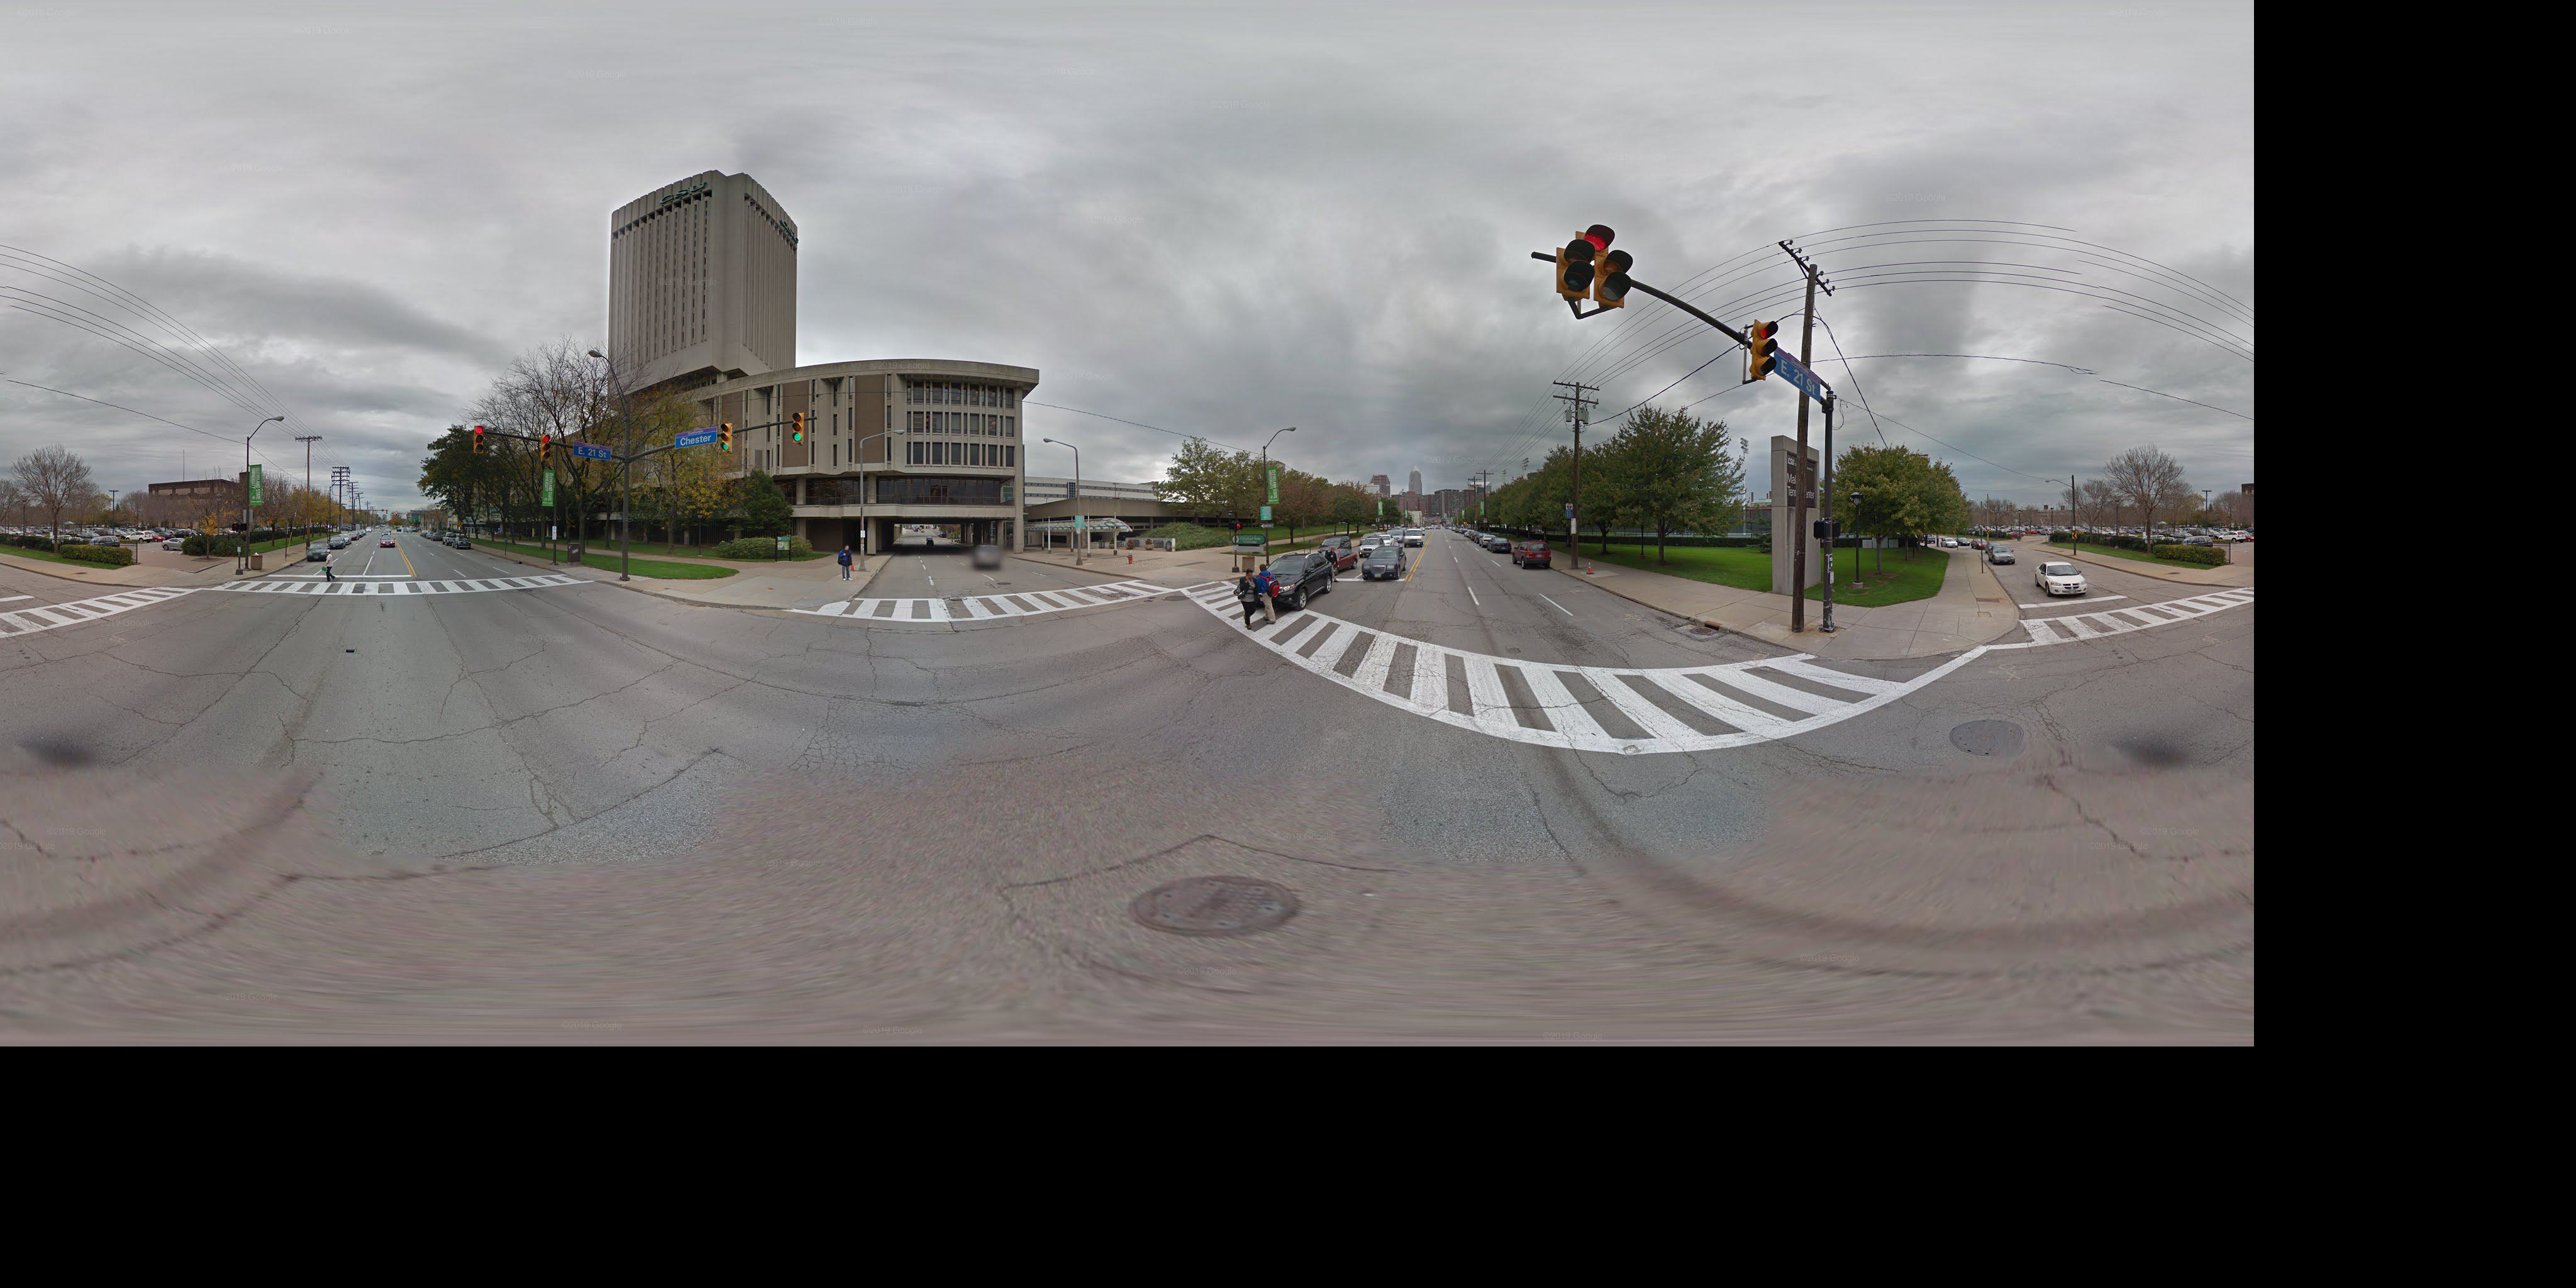Curb Ramp: (1819, 637, 1904, 674), (1973, 609, 2017, 646), (787, 591, 848, 613), (1145, 570, 1219, 583), (149, 577, 194, 593), (567, 567, 596, 582)
Irregular Ramp: (200, 575, 233, 590)
